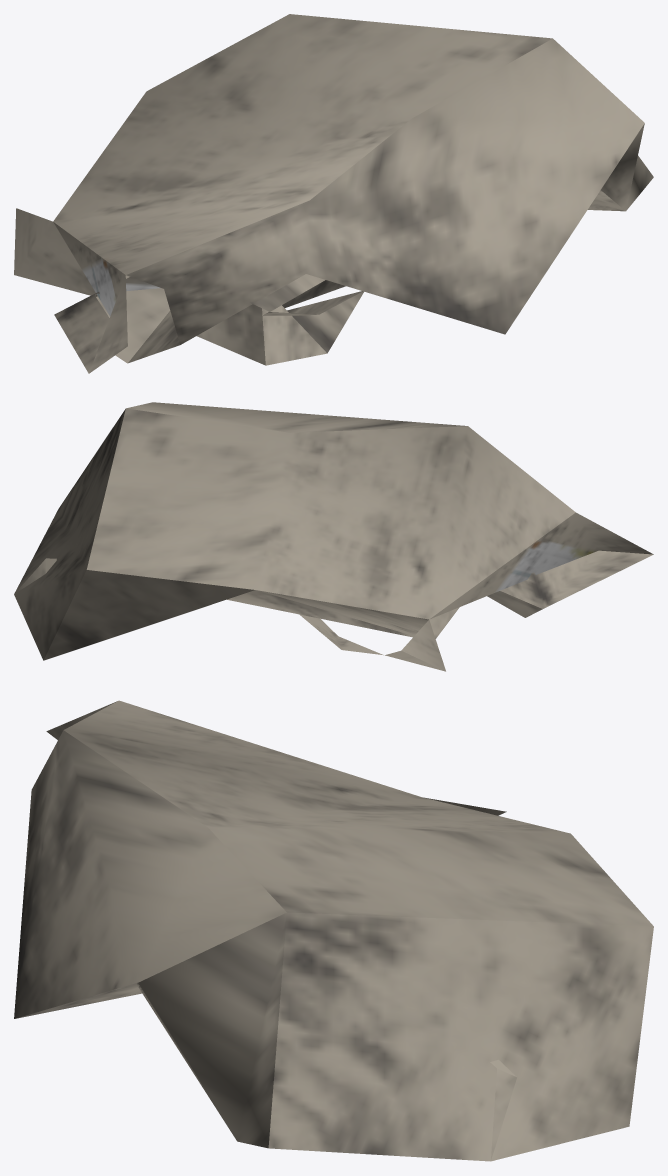
Rendered from Garbage_Plastic_Bag_05.fbx.
The picture shows the model from 3 angles, top to bottom: view 1: azimuth 30°, elevation 25°; view 2: azimuth 150°, elevation 25°; view 3: azimuth 270°, elevation 25°; orthographic projection. The views are drawn at different scales.
Parts seen in each view (by area): view 1: garbage_plasticbag2.006; view 2: garbage_plasticbag2.006; view 3: garbage_plasticbag2.006.
Part boxes in pixels (x1,y1,x2,y2): garbage_plasticbag2.006: [14, 14, 653, 373]; garbage_plasticbag2.006: [14, 402, 653, 671]; garbage_plasticbag2.006: [14, 700, 653, 1161].
Bounding box in the file's own units: 6.34 × 1.86 × 4.54.
